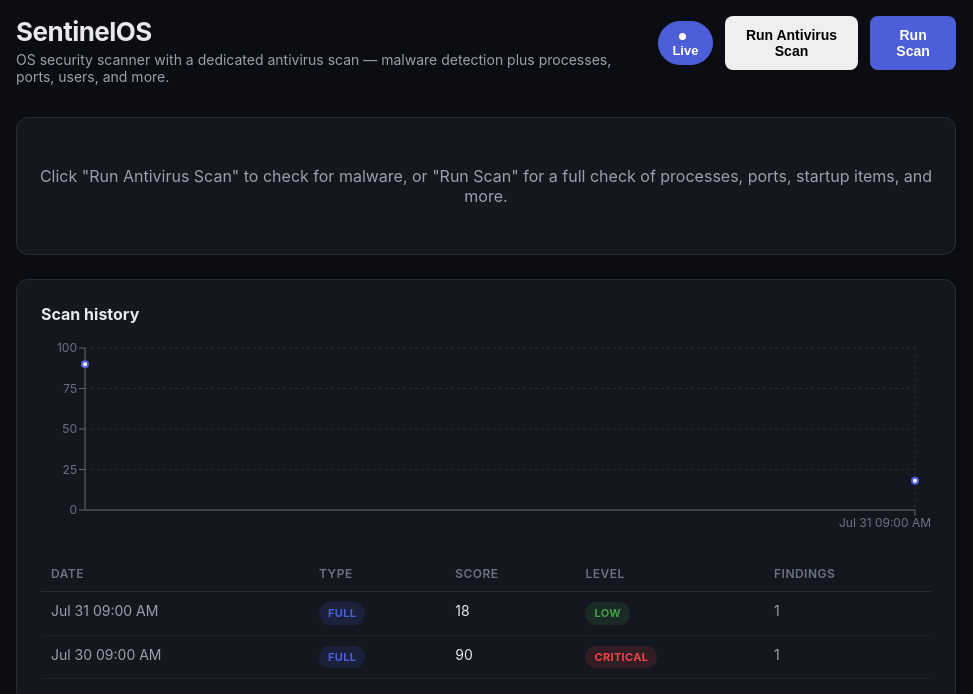
Scenario: clicking a past scan in history loads and displays that scan's report
Expected: the text "90" is shown, [445, 635, 575, 678]
Click the row named "View scan from Jul 30" at (486, 657), box [41, 635, 931, 678]
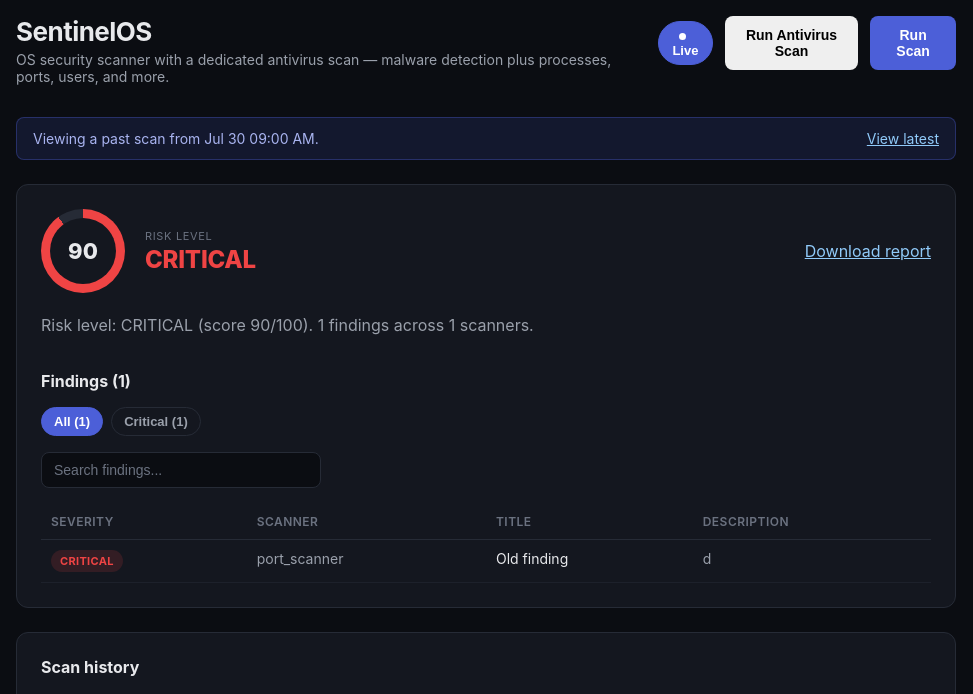
Expected: the text "Old finding" is shown, [486, 539, 693, 583]
Expected: the text "Viewing a past scan from Jul 30 09:00 AM." is shown, [33, 130, 319, 147]
